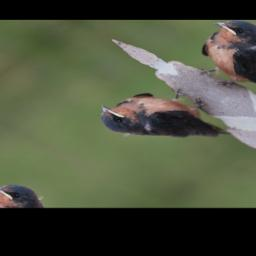Swallow: (85, 71, 247, 170)
